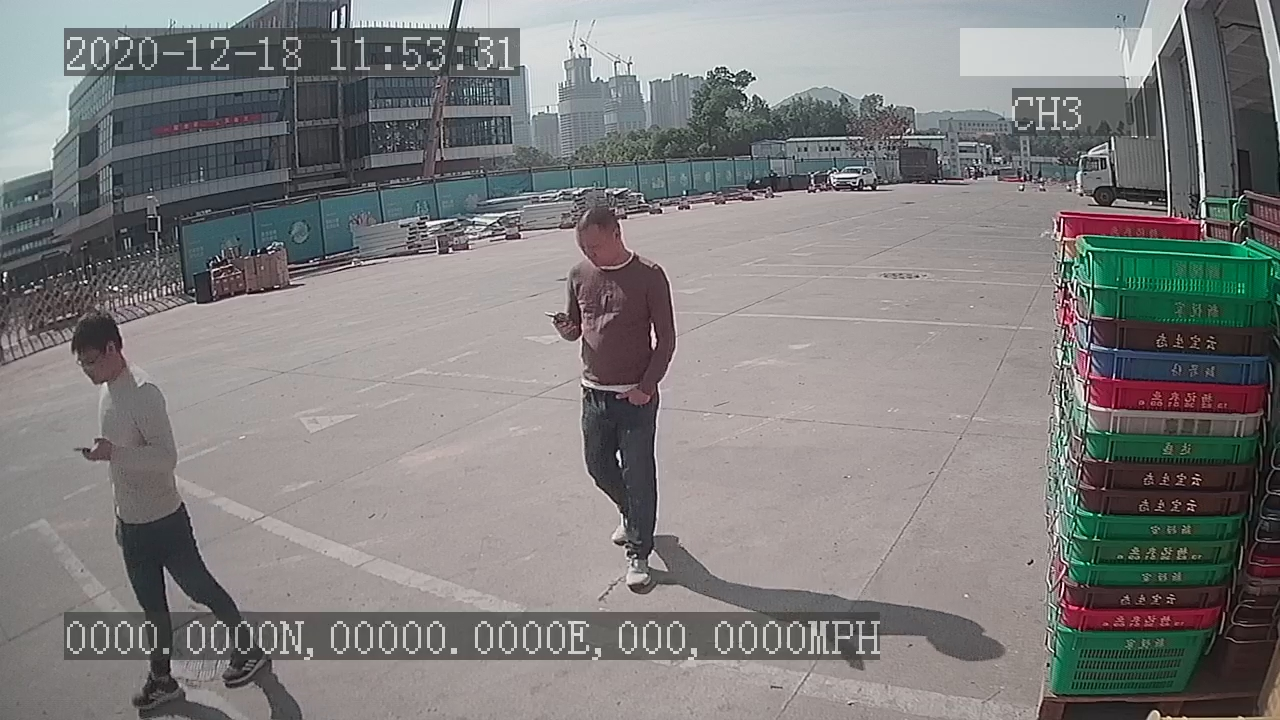person: (533, 197, 681, 595)
